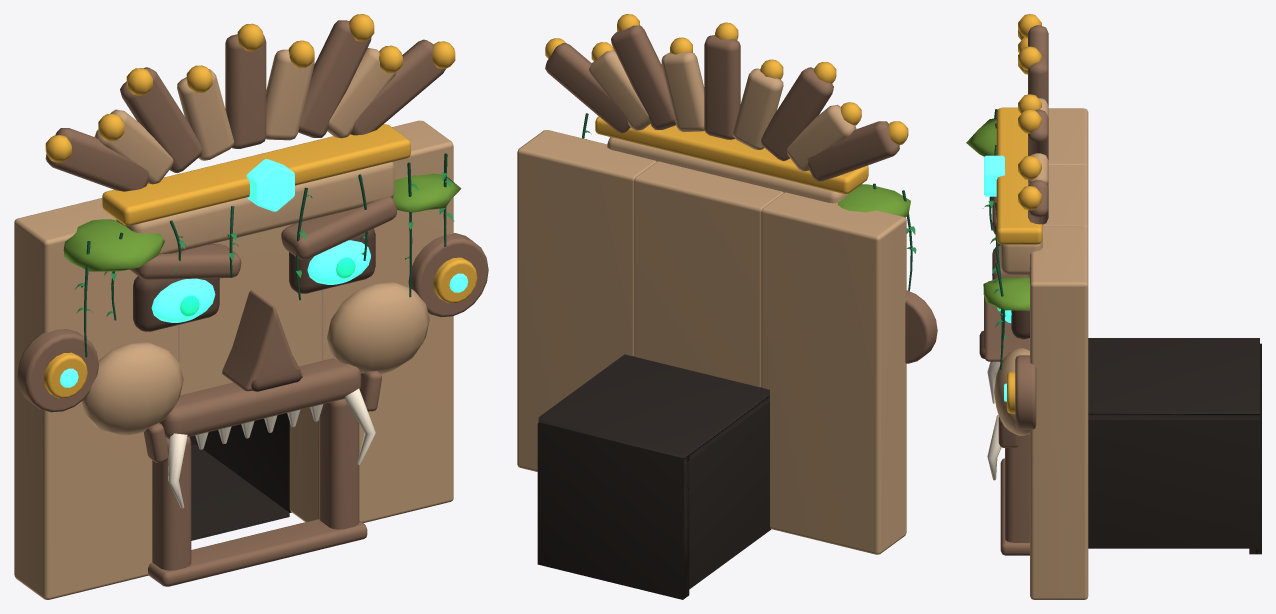
Rendered from jungle_idol_face.glb.
3 renders of one model, left to right at view 1: azimuth 30°, elevation 25°; view 2: azimuth 150°, elevation 25°; view 3: azimuth 270°, elevation 25°, orthographic. The views are drawn at different scales.
Visible parts, largest first — view 1: IdolFace; view 2: IdolFace; view 3: IdolFace.
Boxes of the visible parts, box(x1,y1,x2,y2) form: IdolFace: box(14, 14, 488, 599); IdolFace: box(517, 14, 937, 599); IdolFace: box(966, 14, 1261, 599).
Bounding box in the file's own units: 11.3 × 12.45 × 7.08.
